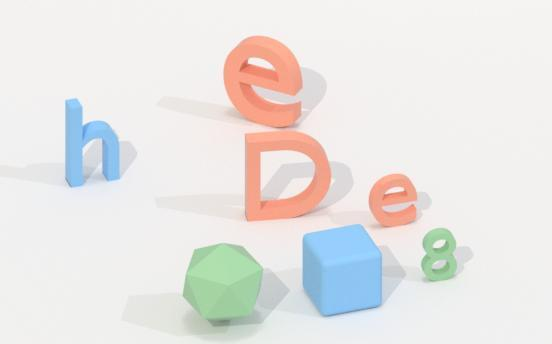chu_khoi: (245, 131, 330, 220), (224, 36, 302, 127), (65, 98, 119, 186), (369, 174, 416, 226)
da_giac: (183, 243, 262, 320)
lap_phuong: (302, 224, 381, 315)
